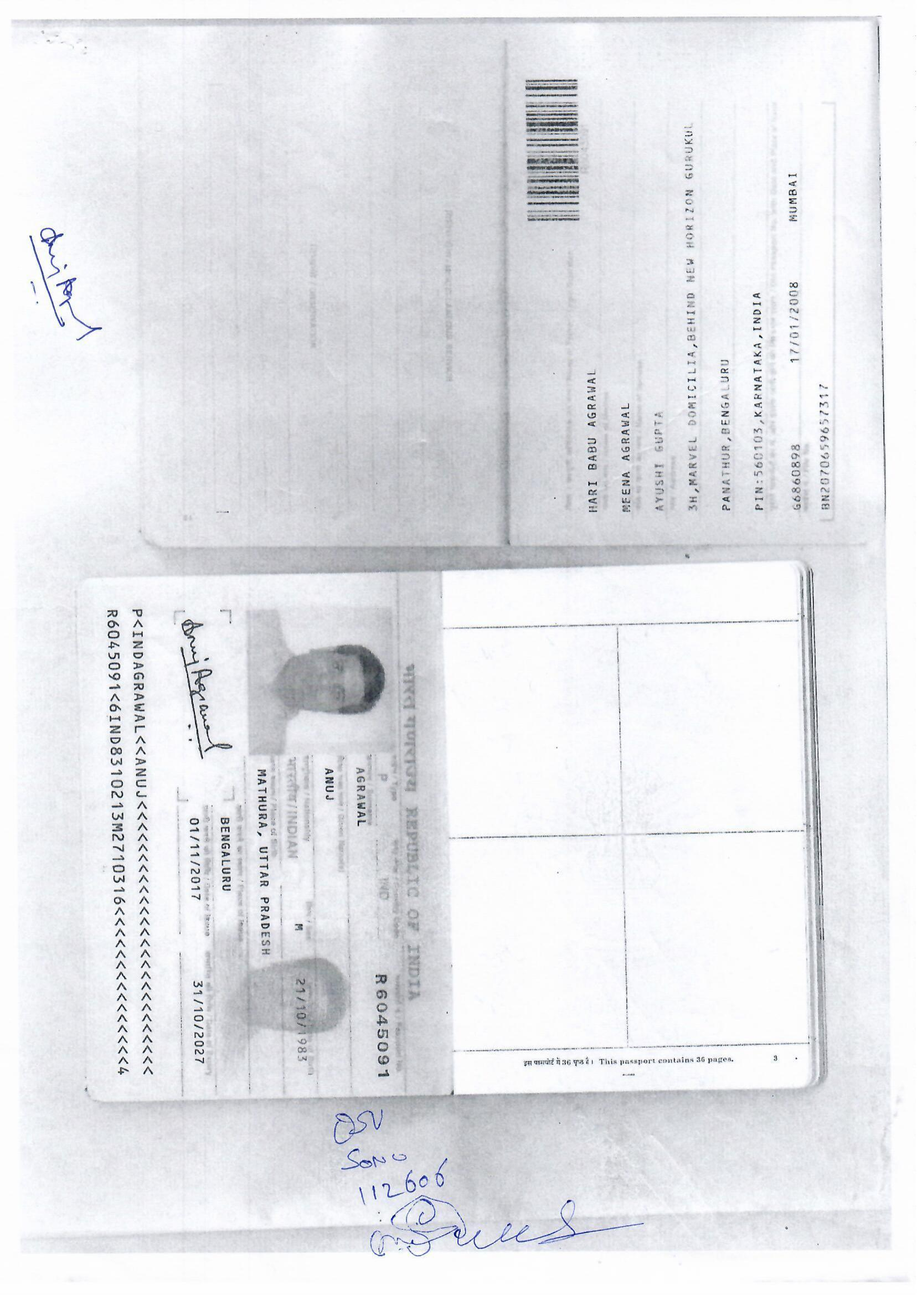DOB: (287, 976, 321, 1088)
Surname: (351, 756, 370, 831)
country_code: (377, 867, 395, 915)
date_of_expiry: (177, 972, 218, 1080)
date_of_issue: (184, 811, 207, 904)
details: (97, 600, 164, 1079)
name: (315, 751, 344, 854)
nationality: (277, 763, 315, 892)
passport_no: (367, 966, 401, 1087)
photo: (247, 612, 394, 746)
place_of_birth: (250, 762, 278, 966)
place_of_issue: (215, 813, 237, 910)
sex: (282, 901, 311, 940)
sign: (177, 613, 223, 766)
type: (377, 764, 394, 791)
